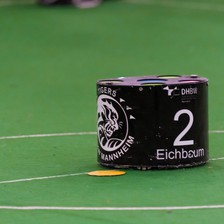robot: (92, 69, 214, 171)
